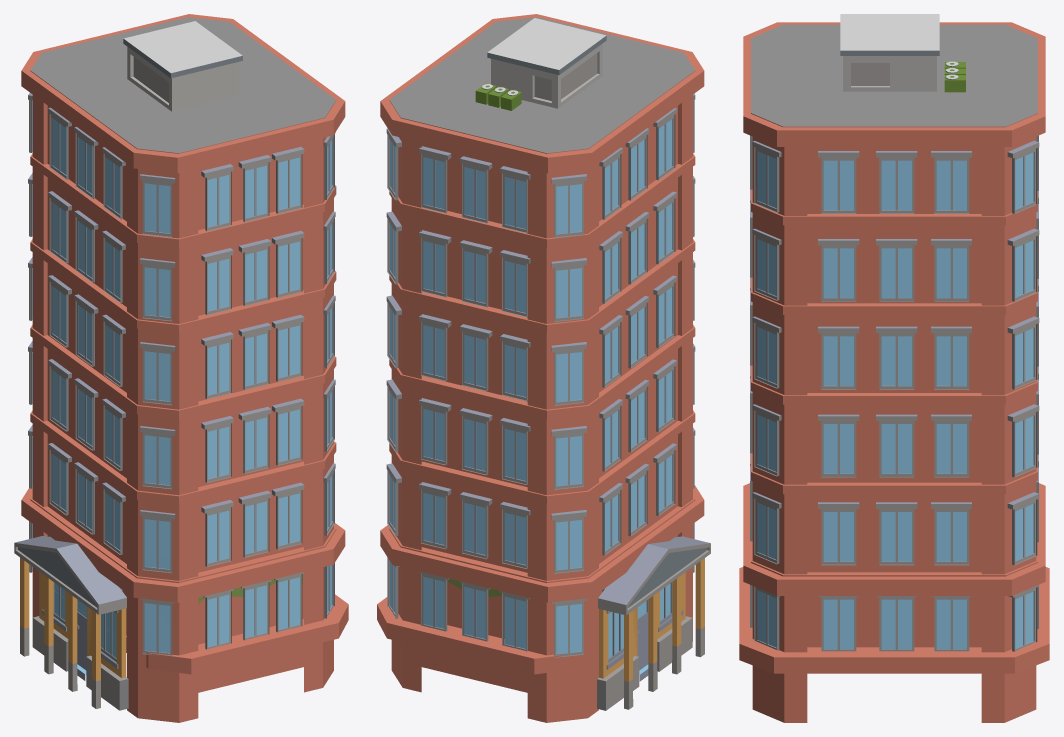
The model's file is putong_zhongxing12.fbx.
3 renders of one model, left to right at view 1: azimuth 30°, elevation 25°; view 2: azimuth 150°, elevation 25°; view 3: azimuth 270°, elevation 25°, orthographic. The views are drawn at different scales.
Parts seen in each view (by area): view 1: putong_zhongxing12; view 2: putong_zhongxing12; view 3: putong_zhongxing12.
Boxes of the visible parts, x1,y1,x2,y2 form: putong_zhongxing12: (14,14,348,722); putong_zhongxing12: (377,14,710,722); putong_zhongxing12: (739,14,1049,722).
Size of the model in its own units: 414 by 455 by 1033.
